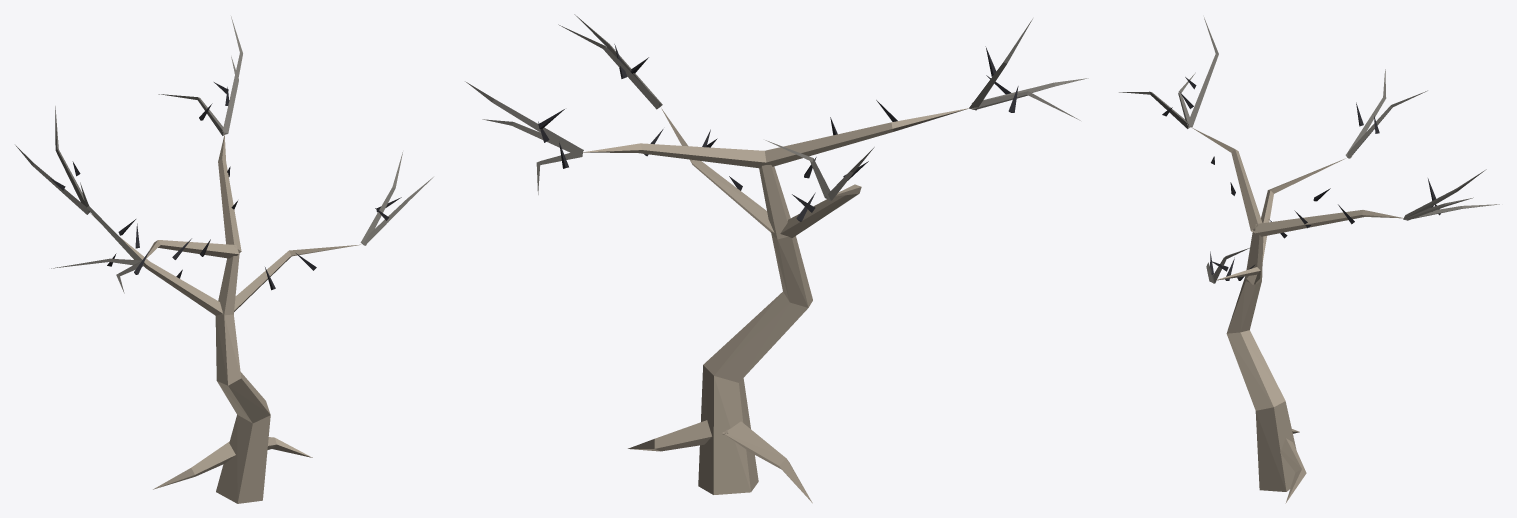
File: Circle7Piece_Tree2.obj
3 renders of one model, left to right at view 1: azimuth 30°, elevation 25°; view 2: azimuth 150°, elevation 25°; view 3: azimuth 270°, elevation 25°, orthographic. The views are drawn at different scales.
Parts seen in each view (by area): view 1: Circle7Piece_Tree2; view 2: Circle7Piece_Tree2; view 3: Circle7Piece_Tree2.
Boxes of the visible parts, x1,y1,x2,y2 form: Circle7Piece_Tree2: (15, 16, 433, 503); Circle7Piece_Tree2: (465, 14, 1088, 503); Circle7Piece_Tree2: (1119, 17, 1499, 503).
Bounding box in the file's own units: 6.13 × 5.86 × 5.42.
1 material, 1 textured.
